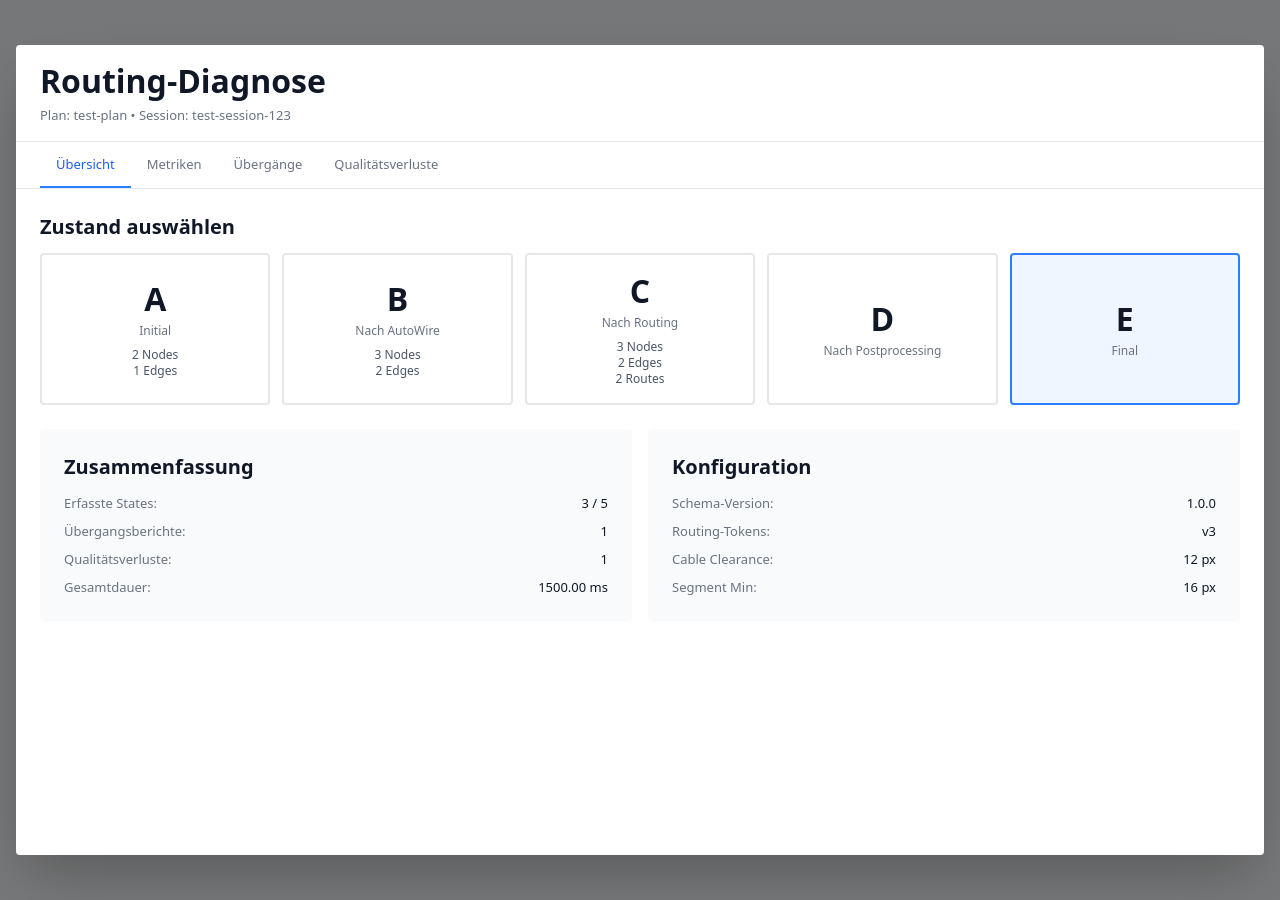
Scenario: DiagnosticViewer › should display quality losses when present
This screenshot has width=1280, height=900.
Click the button "Qualitätsverluste" at (386, 165), box [318,142,454,188]
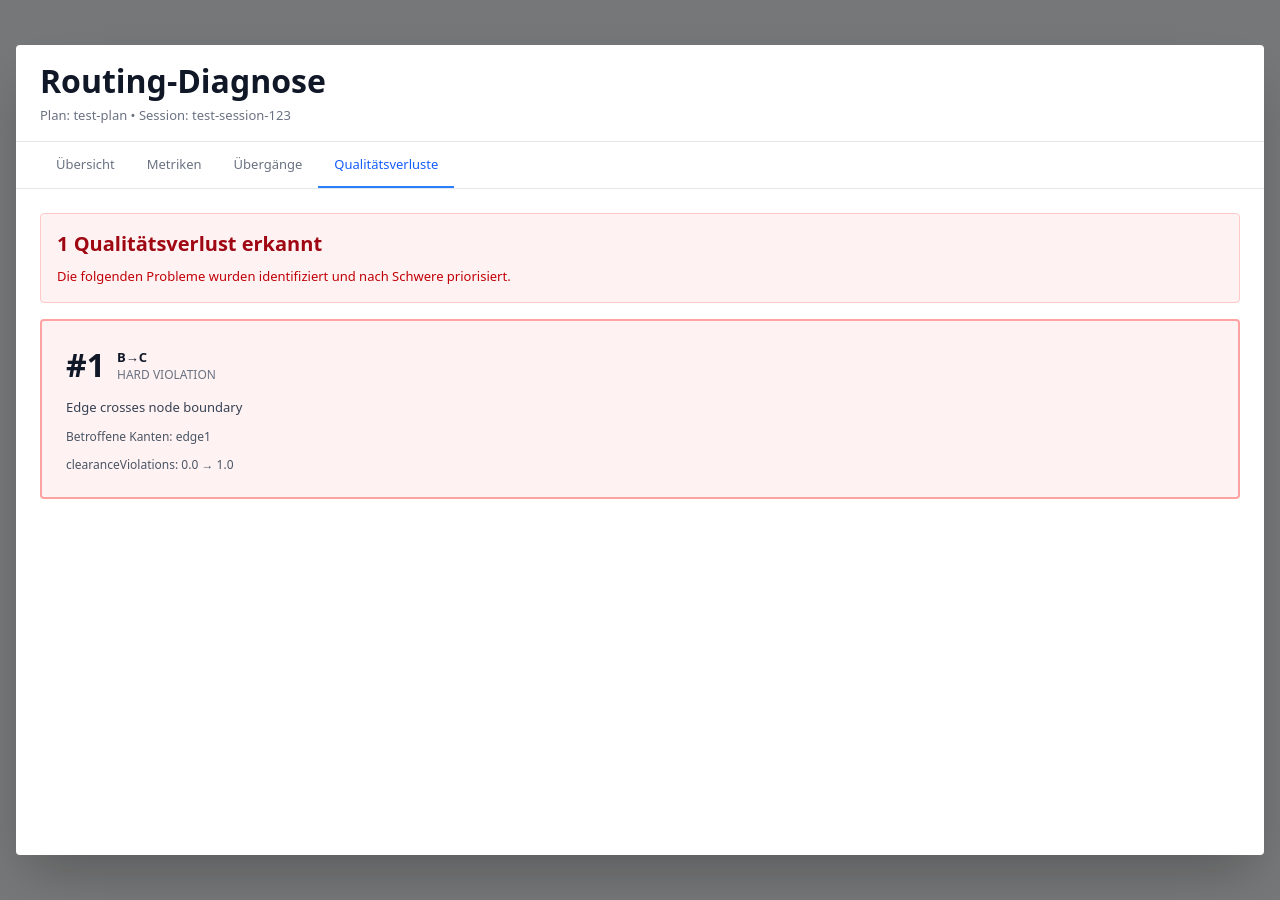
Expected: the heading "1 Qualitätsverlust erkannt" is shown, [57,230,322,257]
Expected: the text "Edge crosses node boundary" is shown, [66,398,242,416]
